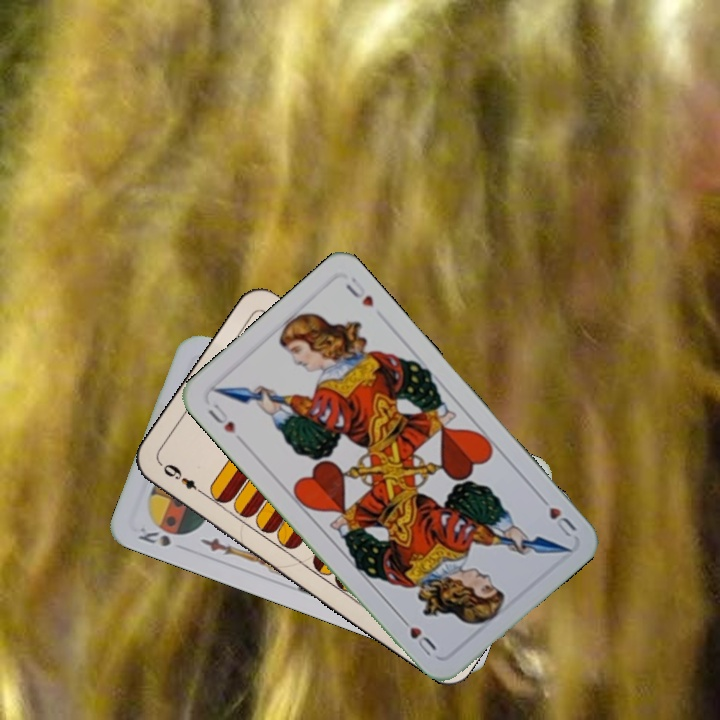E9: (156, 459, 208, 499)
HU: (534, 490, 579, 540), (204, 399, 238, 436)
SK: (132, 523, 174, 550)
